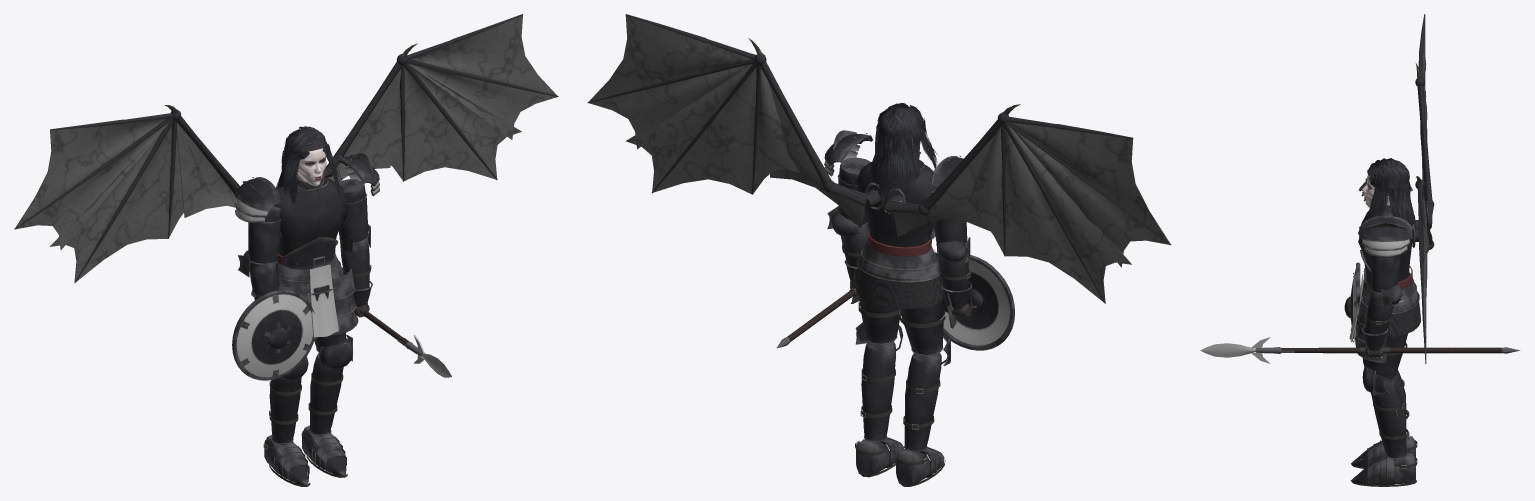
File: ZONHUNT.glb
The picture shows the model from 3 angles, left to right: view 1: azimuth 30°, elevation 25°; view 2: azimuth 150°, elevation 25°; view 3: azimuth 270°, elevation 25°; orthographic projection. The views are drawn at different scales.
Parts seen in each view (by area): view 1: wing2_L.001_R, wing2_L.001, wing3_L.001_R, wing3_L.001, shield, torso.001, wingarm_L, wingarm_L_R, shin_L, hip, shin_L_R, headcards (+12 smaller); view 2: wing3_L.001_R, wing3_L.001, wing2_L.001, wing2_L.001_R, hip, shield, wingarm_L_R, wingarm_L, headcards, shin_L, shin_L_R, torso.001 (+12 smaller); view 3: shin_L, spear.001, headcards, pauldron_L, hip, foot_L.001, thigh_L, forearm_L, wingarm_L_R, upperarm_L, torso.001, wing2_L.001 (+5 smaller).
Boxes of the visible parts, bbox=[...] form: wing2_L.001_R: bbox=[14, 113, 173, 249]; wing2_L.001: bbox=[407, 14, 558, 139]; wing3_L.001_R: bbox=[50, 120, 211, 282]; wing3_L.001: bbox=[363, 63, 521, 181]; shield: bbox=[232, 290, 314, 380]; torso.001: bbox=[274, 169, 348, 269]; wingarm_L: bbox=[324, 43, 417, 181]; wingarm_L_R: bbox=[165, 105, 240, 217]; shin_L: bbox=[308, 335, 352, 435]; hip: bbox=[278, 253, 344, 337]; shin_L_R: bbox=[269, 356, 308, 444]; headcards: bbox=[276, 126, 342, 205]; wing3_L.001_R: bbox=[958, 123, 1131, 303]; wing3_L.001: bbox=[625, 62, 799, 194]; wing2_L.001: bbox=[587, 14, 755, 149]; wing2_L.001_R: bbox=[1006, 116, 1171, 267]; hip: bbox=[856, 231, 943, 308]; shield: bbox=[943, 255, 1014, 350]; wingarm_L_R: bbox=[885, 104, 1020, 236]; wingarm_L: bbox=[748, 38, 867, 227]; headcards: bbox=[866, 103, 937, 203]; shin_L: bbox=[855, 322, 903, 442]; shin_L_R: bbox=[903, 333, 950, 452]; torso.001: bbox=[851, 152, 937, 247]; shin_L: bbox=[1362, 365, 1409, 458]; spear.001: bbox=[1200, 337, 1520, 363]; headcards: bbox=[1367, 158, 1416, 228]; pauldron_L: bbox=[1359, 215, 1412, 257]; hip: bbox=[1349, 266, 1420, 342]; foot_L.001: bbox=[1350, 453, 1417, 486]; thigh_L: bbox=[1356, 296, 1407, 381]; forearm_L: bbox=[1365, 284, 1402, 339]; wingarm_L_R: bbox=[1415, 63, 1434, 229]; upperarm_L: bbox=[1370, 255, 1400, 294]; torso.001: bbox=[1358, 205, 1415, 287]; wing2_L.001: bbox=[1417, 184, 1426, 336].
Bounding box in the file's own units: 6.38 × 4.29 × 3.52.
Materials: 17 (17 with a texture image).
